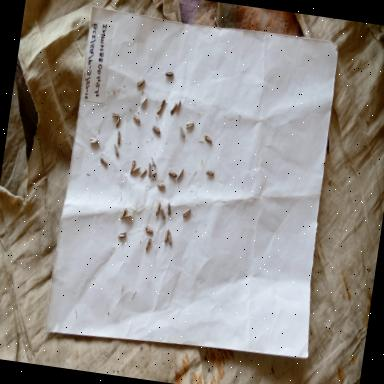pbw: (135, 77, 146, 93), (138, 166, 150, 180), (150, 123, 162, 137), (118, 206, 128, 222), (168, 102, 178, 118), (130, 113, 142, 126), (180, 207, 192, 220), (201, 132, 213, 145), (128, 159, 137, 176), (154, 102, 164, 117), (156, 206, 166, 221), (184, 119, 196, 131), (154, 200, 162, 218), (166, 168, 178, 180), (176, 126, 186, 140), (174, 95, 181, 114), (130, 164, 141, 176), (162, 228, 170, 244), (145, 162, 153, 178), (113, 114, 122, 128), (115, 128, 122, 146), (111, 143, 120, 157), (176, 166, 184, 181), (166, 231, 174, 246), (148, 156, 158, 168), (165, 202, 173, 216), (110, 110, 120, 121), (148, 171, 158, 182), (98, 156, 109, 166), (155, 182, 166, 192), (122, 212, 133, 222), (164, 70, 174, 80), (143, 226, 153, 236), (158, 99, 166, 111), (145, 236, 151, 252), (88, 136, 98, 145), (116, 231, 126, 240), (205, 169, 215, 178), (138, 96, 146, 106)
